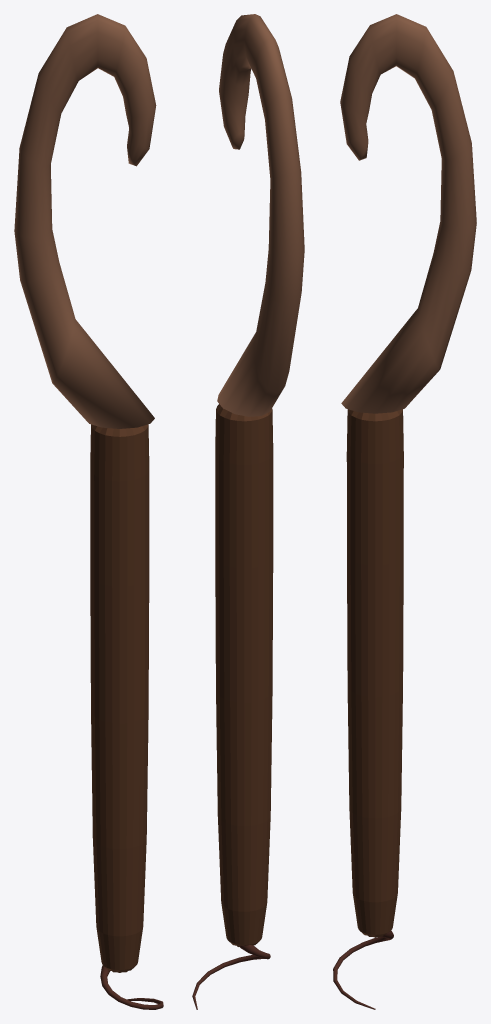
Rendered from Wand 89.glb.
3 renders of one model, left to right at view 1: azimuth 90°, elevation 25°; view 2: azimuth 210°, elevation 25°; view 3: azimuth 270°, elevation 25°, orthographic. The views are drawn at different scales.
Parts seen in each view (by area): view 1: GeneratedWand; view 2: GeneratedWand; view 3: GeneratedWand.
Boxes of the visible parts, left/top/right/bottom form: GeneratedWand: left=14, top=14, right=163, bottom=1009; GeneratedWand: left=192, top=14, right=304, bottom=1009; GeneratedWand: left=333, top=14, right=476, bottom=1009.
Size of the model in its own units: 0.0402 by 0.5142 by 0.0688.
